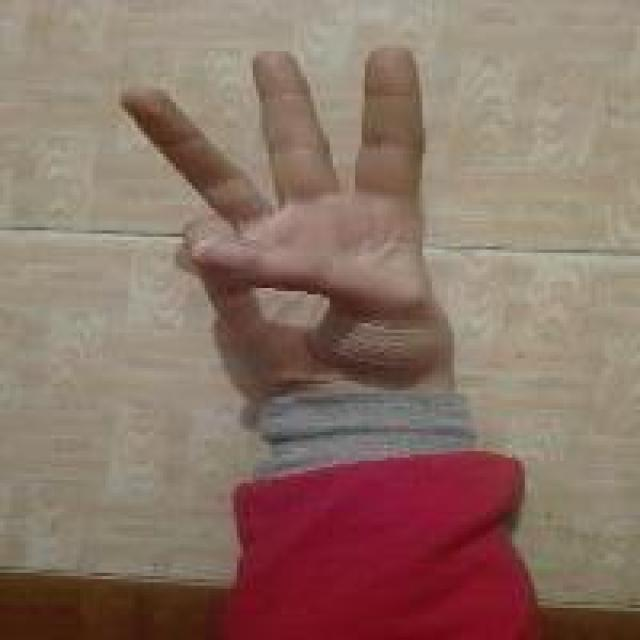W: (114, 41, 456, 422)
